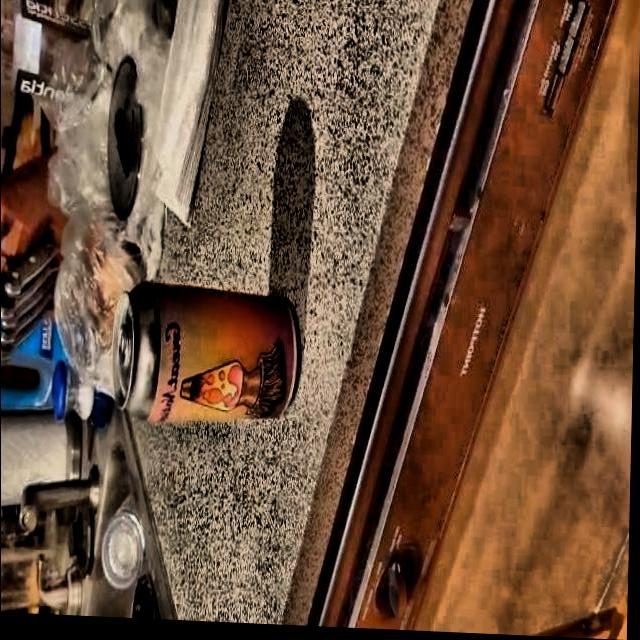litter: (110, 280, 310, 440)
